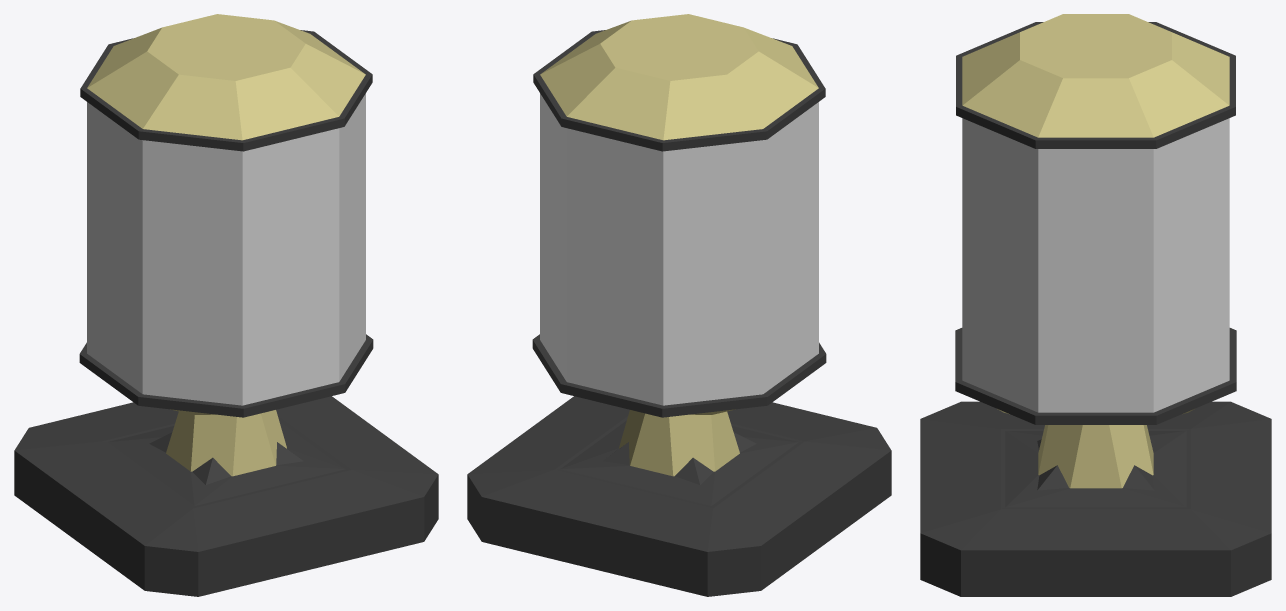
The model's file is WarningLight.fbx.
The picture shows the model from 3 angles, left to right: view 1: azimuth 30°, elevation 25°; view 2: azimuth 150°, elevation 25°; view 3: azimuth 270°, elevation 25°; orthographic projection. The views are drawn at different scales.
Parts seen in each view (by area): view 1: Cube; view 2: Cube; view 3: Cube.
Boxes of the visible parts, x1,y1,x2,y2 form: Cube: (14,14,438,596); Cube: (467,14,891,596); Cube: (920,14,1271,596).
Size of the model in its own units: 59.65 by 90.54 by 59.65.
